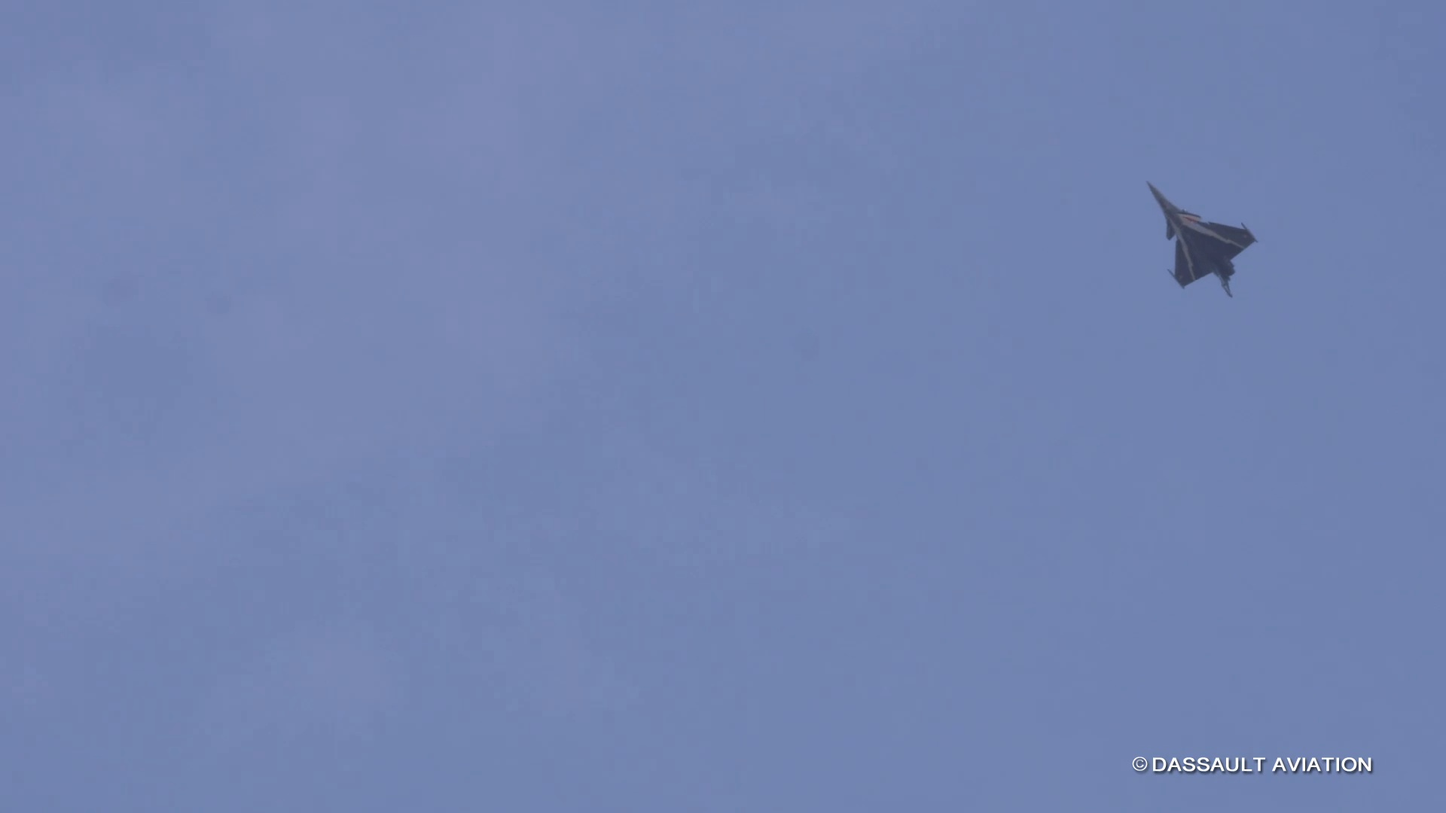Rafale: (1144, 180, 1256, 307)
